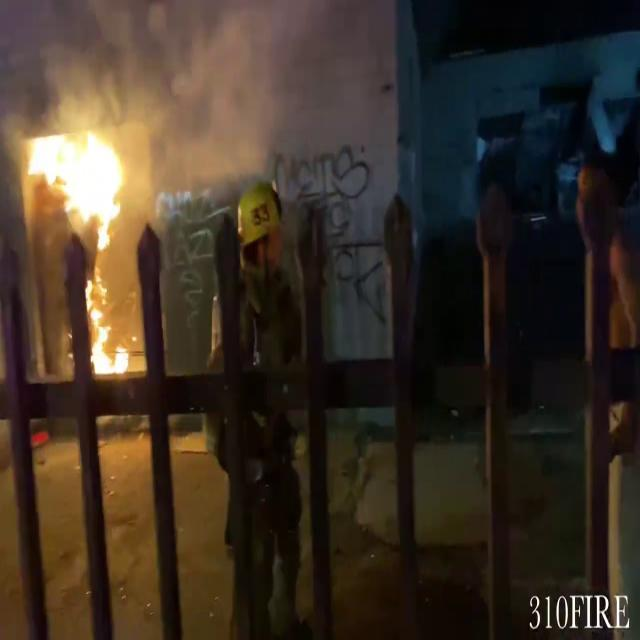Fire: (23, 121, 131, 232), (80, 274, 131, 382)
